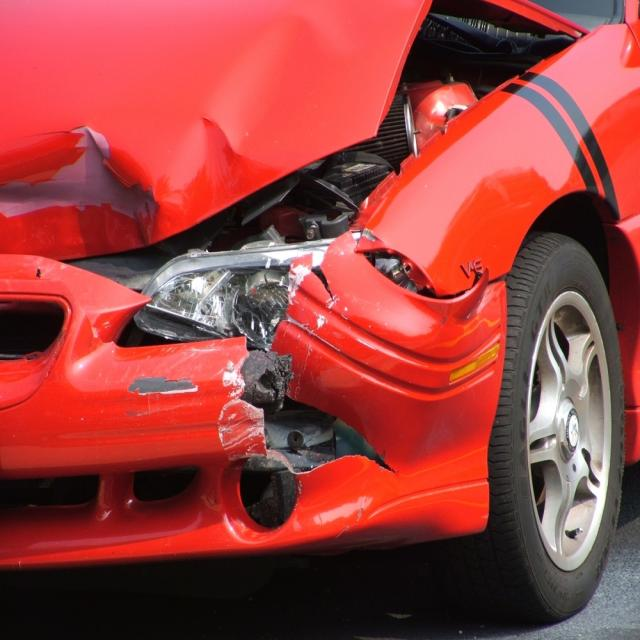crack: (265, 394, 401, 476), (310, 266, 336, 303)
dent: (0, 14, 350, 256)
scratch: (216, 357, 268, 458), (130, 370, 206, 401)
